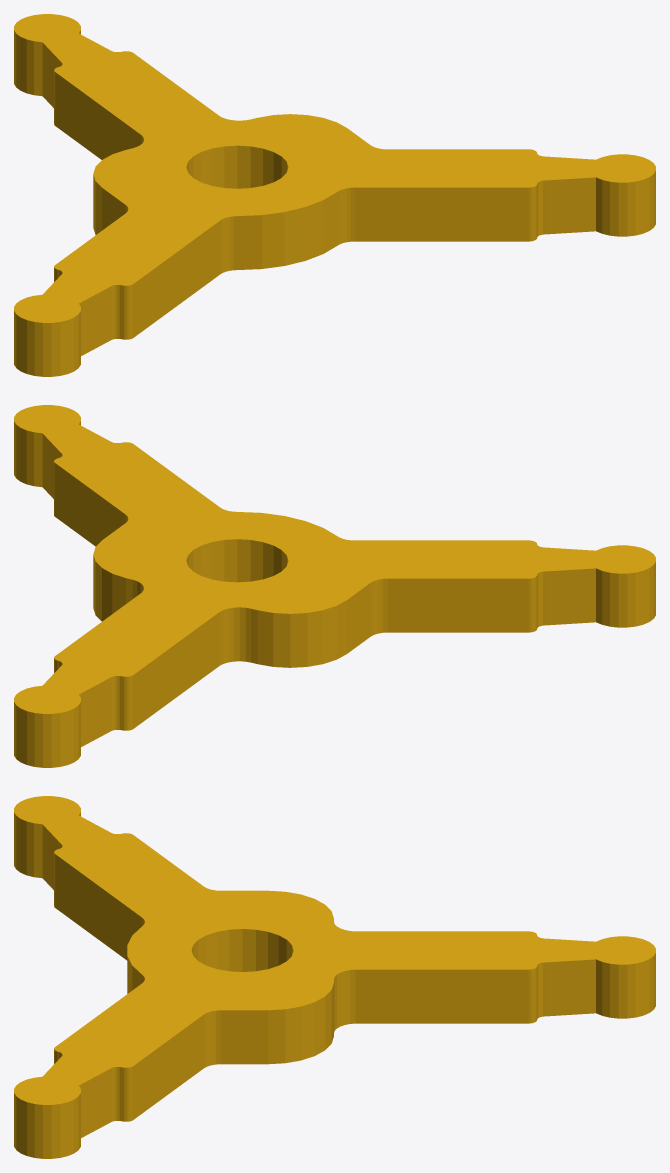
Rendered from star-3-u.fbx.
The picture shows the model from 3 angles, top to bottom: view 1: azimuth 30°, elevation 25°; view 2: azimuth 150°, elevation 25°; view 3: azimuth 270°, elevation 25°; orthographic projection.
Parts seen in each view (by area): view 1: star_3_u; view 2: star_3_u; view 3: star_3_u.
Boxes of the visible parts, <box> form: star_3_u: <box>14,14,655,376</box>; star_3_u: <box>14,405,655,767</box>; star_3_u: <box>14,796,655,1158</box>.
Bounding box in the file's own units: 3.68 × 0.3 × 3.23.
